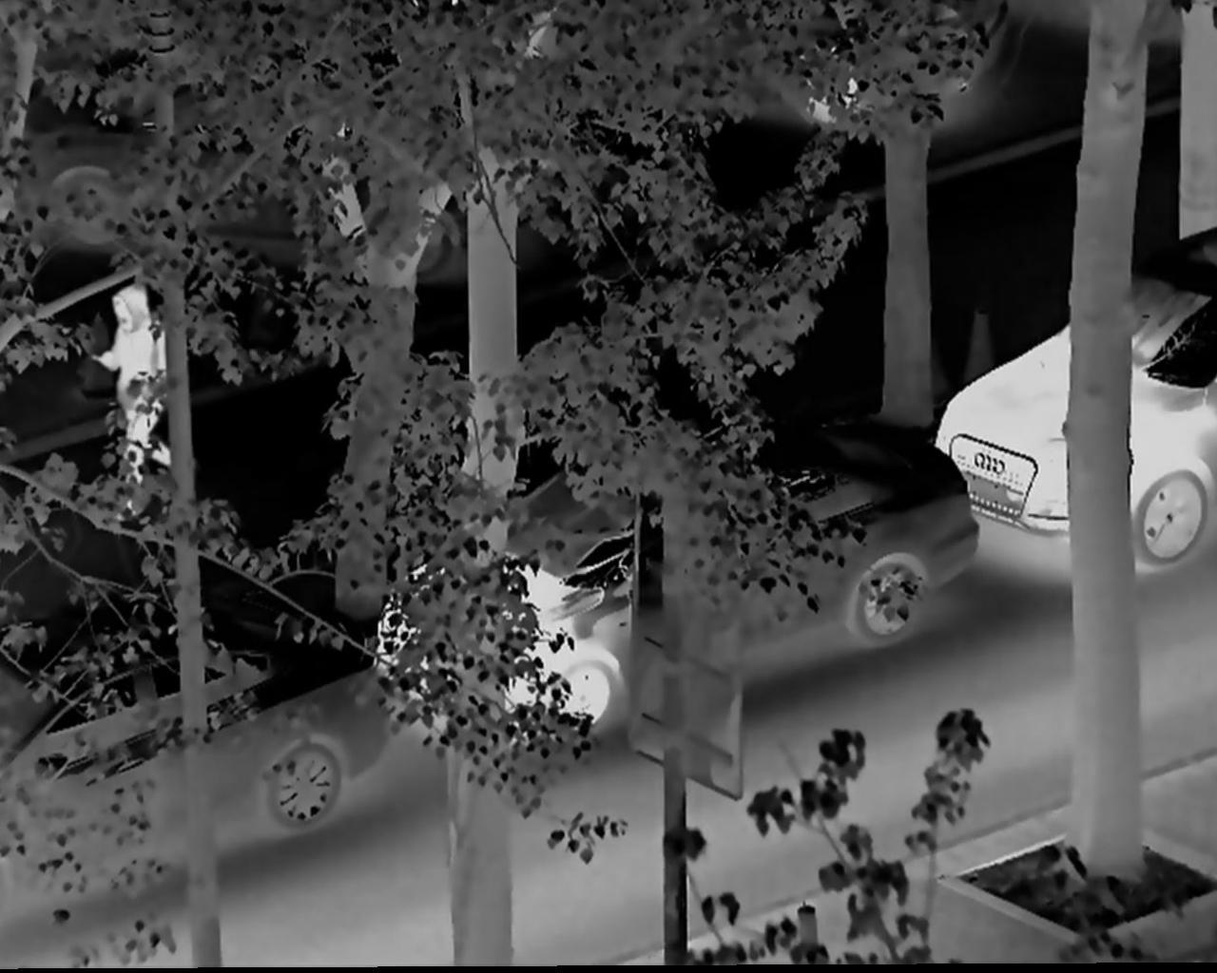person: (86, 278, 180, 503)
